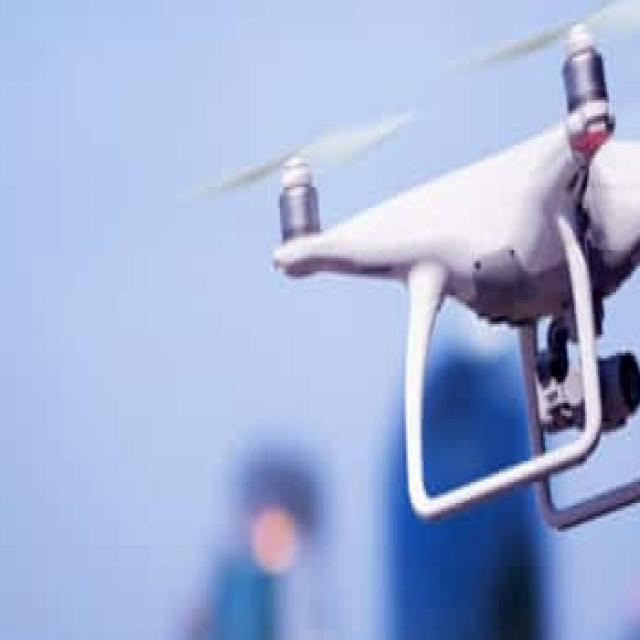drone: (254, 0, 640, 553)
